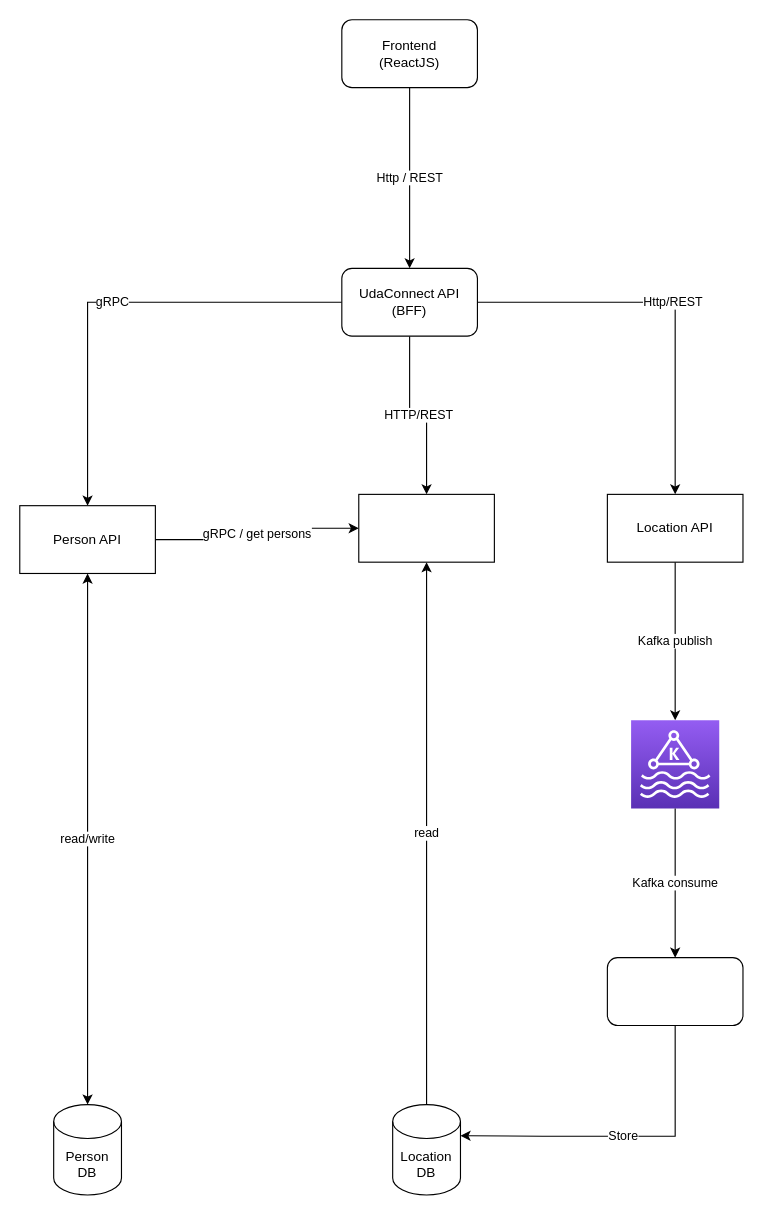
The diagram is 763 pixels wide and 1215 high, and some of its shapes have lost their labels. Each missing label, with the centre of its shape:
Connection API: the point at 426,527
Kafka: the point at 674,764
Location Consumer Service: the point at 674,991
